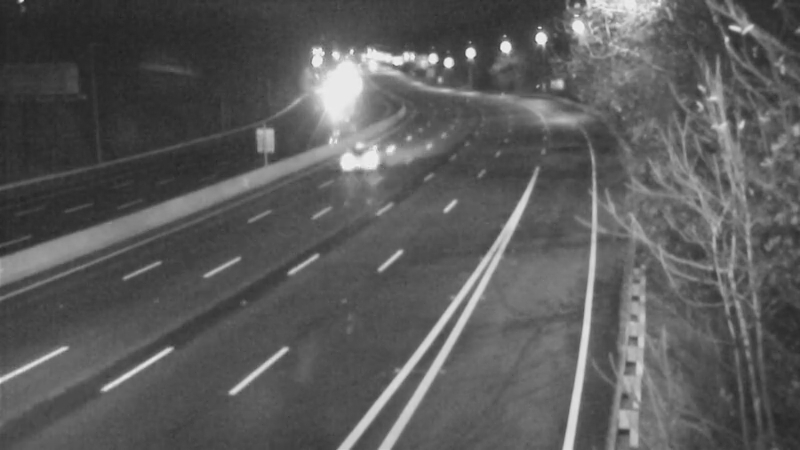vehicle: (330, 110, 410, 190)
